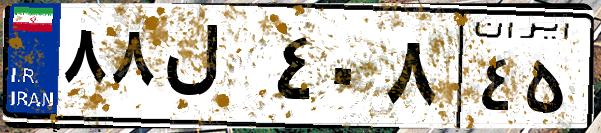0: (330, 28, 385, 110)
4: (270, 28, 330, 110), (475, 38, 525, 113)
5: (525, 38, 570, 115)
8: (385, 28, 445, 110), (57, 26, 110, 100), (110, 28, 158, 98)
ل: (158, 20, 270, 120)
